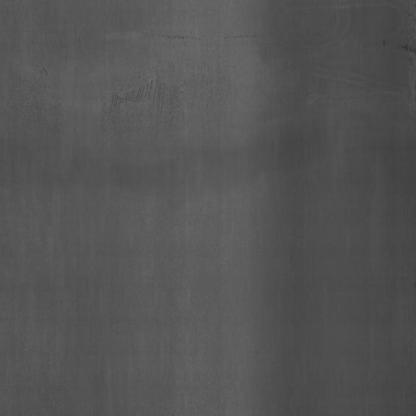rolled_pit: (98, 65, 215, 137)
